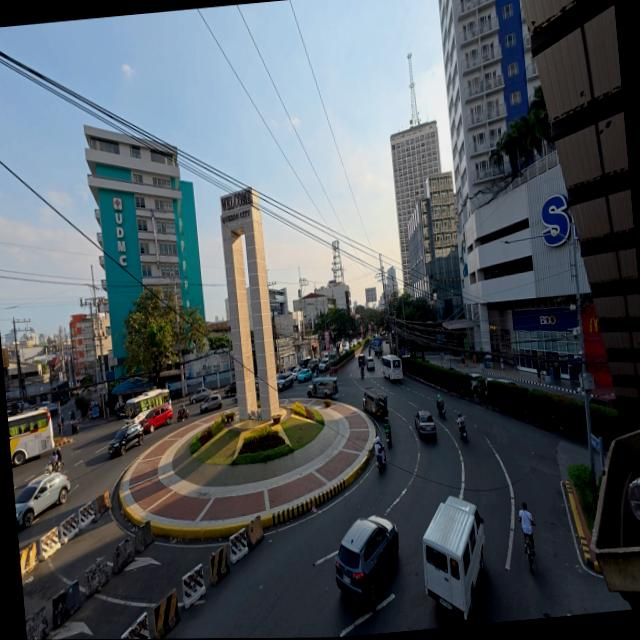Jeepneys: (363, 388, 388, 419), (308, 377, 338, 399)
bus: (8, 409, 54, 465), (125, 389, 170, 423), (381, 354, 403, 380)
car: (336, 515, 399, 607), (15, 473, 70, 527), (109, 424, 144, 456), (141, 404, 173, 433), (415, 411, 436, 439), (200, 394, 223, 413), (189, 387, 211, 404), (470, 372, 485, 393), (277, 373, 294, 390), (223, 380, 237, 396), (297, 369, 312, 383), (319, 357, 330, 372), (307, 359, 318, 372), (290, 367, 302, 378), (366, 356, 375, 370), (318, 362, 329, 373), (358, 354, 366, 366)
motorcycle: (45, 460, 63, 474), (376, 449, 386, 472), (384, 421, 392, 446), (177, 406, 189, 421), (436, 403, 446, 418), (458, 423, 467, 439), (71, 420, 79, 434), (58, 422, 63, 436), (360, 365, 364, 377)
vans: (423, 497, 484, 619)
